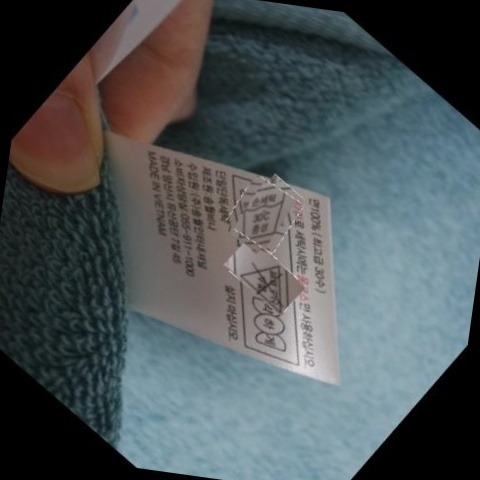DN_bleach: (240, 255, 292, 307)
hand_wash: (235, 182, 288, 245)
wring: (244, 296, 294, 353)
